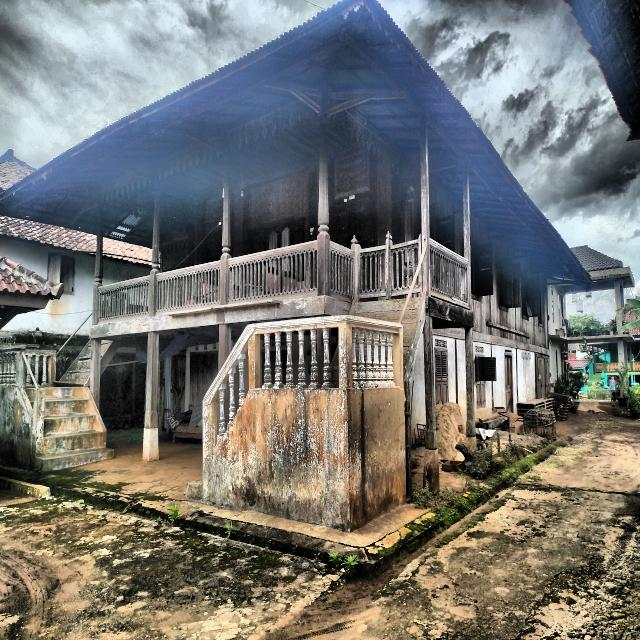column: (423, 316, 440, 496), (142, 332, 159, 463), (465, 328, 476, 454), (317, 148, 330, 240), (90, 339, 101, 445), (220, 177, 232, 260), (150, 206, 160, 274), (93, 231, 103, 287)
ornamen: (99, 238, 469, 321)
